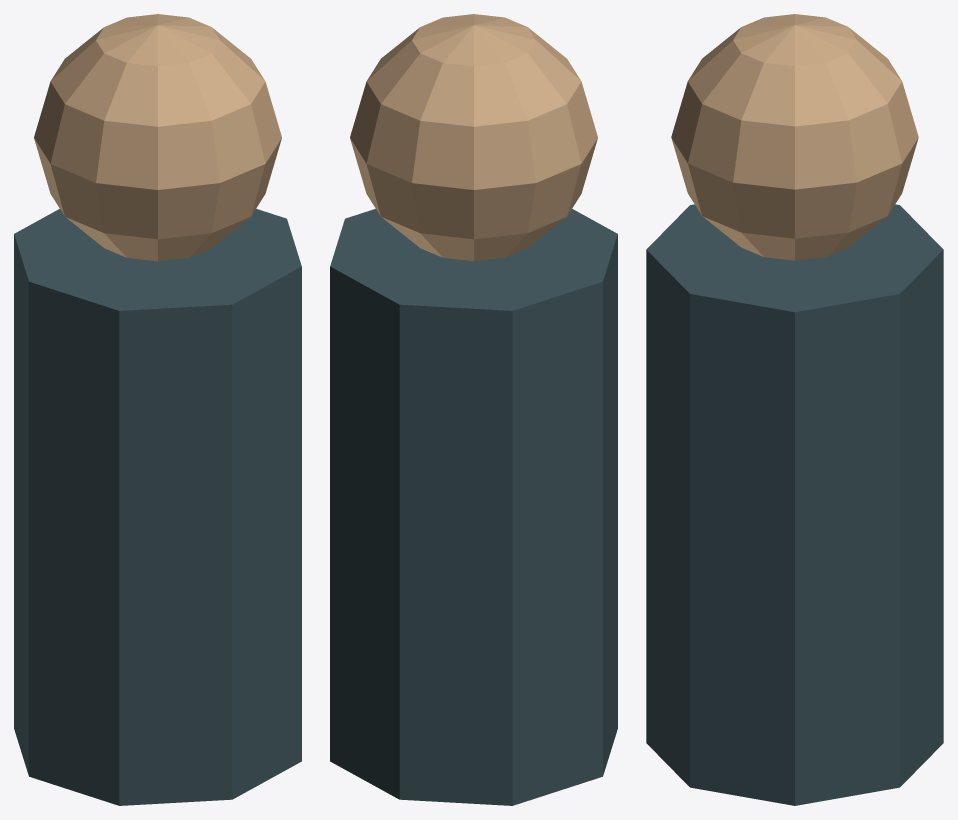
File: pilot.gltf
3 views of the same model, side by side, from view 1: azimuth 30°, elevation 25°; view 2: azimuth 150°, elevation 25°; view 3: azimuth 270°, elevation 25° (orthographic).
Parts seen in each view (by area): view 1: coat, face; view 2: coat, face; view 3: coat, face.
Boxes of the visible parts, <box> form: coat: <box>14,208,301,805</box>; face: <box>34,14,281,261</box>; coat: <box>330,208,617,805</box>; face: <box>350,14,597,261</box>; coat: <box>646,204,943,805</box>; face: <box>671,14,918,260</box>.
Size of the model in its own units: 0.6 by 1.6 by 0.6.
